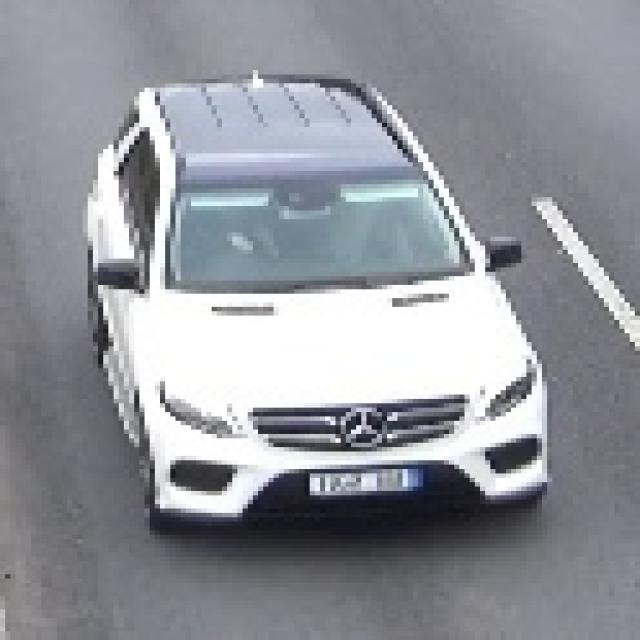SUV: (104, 91, 540, 521)
